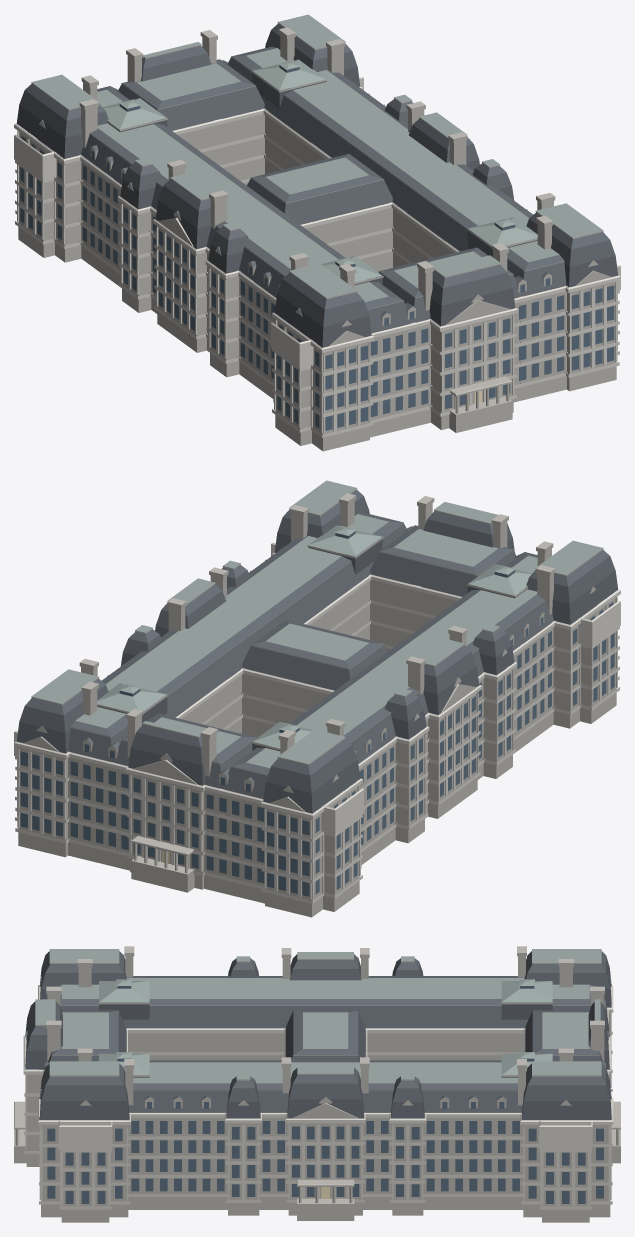
File: dc-eisenhower-eob.glb
The picture shows the model from 3 angles, top to bottom: view 1: azimuth 30°, elevation 25°; view 2: azimuth 150°, elevation 25°; view 3: azimuth 270°, elevation 25°; orthographic projection. The views are drawn at different scales.
Parts seen in each view (by area): view 1: Eisenhower Executive Office Building; view 2: Eisenhower Executive Office Building; view 3: Eisenhower Executive Office Building.
Boxes of the visible parts, box(x1,y1,x2,y2) form: Eisenhower Executive Office Building: box(14, 14, 620, 451); Eisenhower Executive Office Building: box(14, 480, 620, 917); Eisenhower Executive Office Building: box(14, 946, 620, 1222).
Size of the model in its own units: 88.7 by 40.8 by 155.
